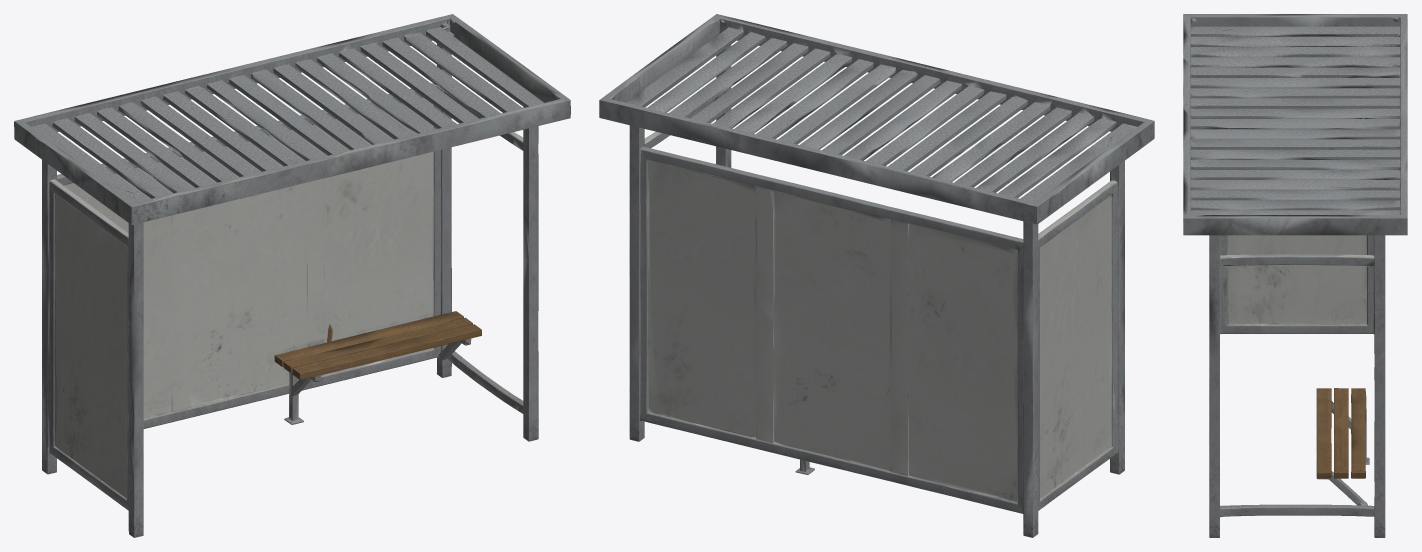
File: abribus.glb
3 views of the same model, side by side, from view 1: azimuth 30°, elevation 25°; view 2: azimuth 150°, elevation 25°; view 3: azimuth 270°, elevation 25° (orthographic). The views are drawn at different scales.
Bounding box in the file's own units: 1.9 × 1.43 × 0.884.
1 material, 1 textured.
